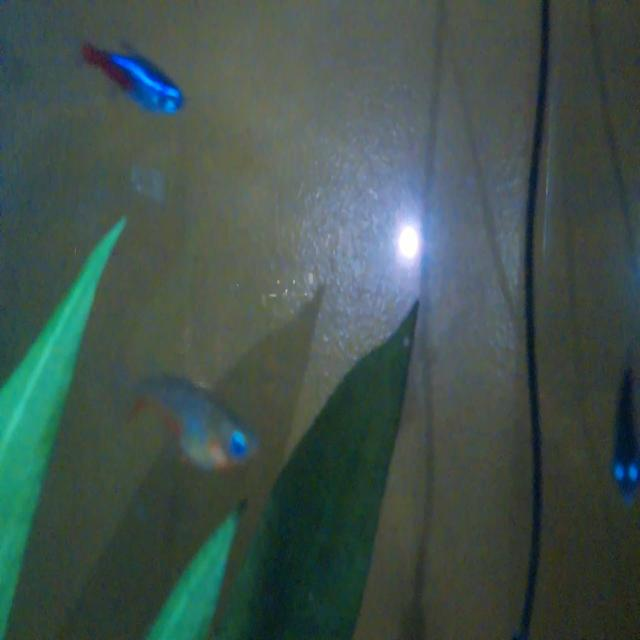fish: (115, 355, 266, 486), (80, 30, 186, 128)
